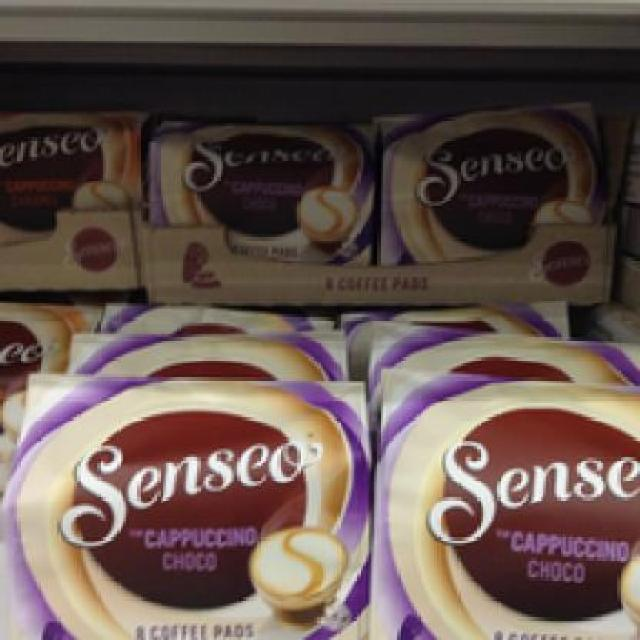Coffee: (2, 368, 368, 638), (366, 360, 634, 637), (374, 97, 597, 263), (143, 111, 374, 262)
